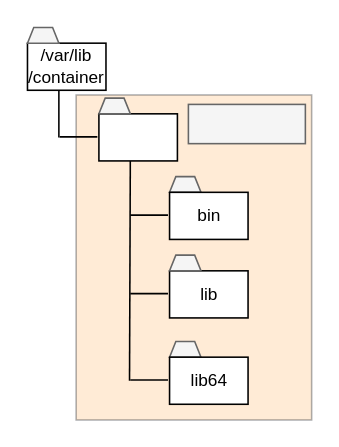
Image size: 339x447. Some labels were removed from this diagram. Each missing label, with the centre of its shape:
"test/" goes at (137,136).
"実行環境" goes at (246,123).
